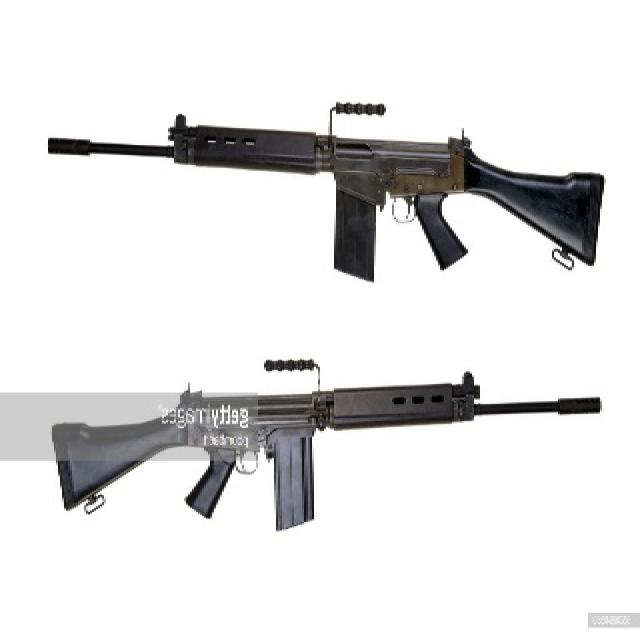rifle: (37, 79, 623, 283), (45, 332, 619, 540)
